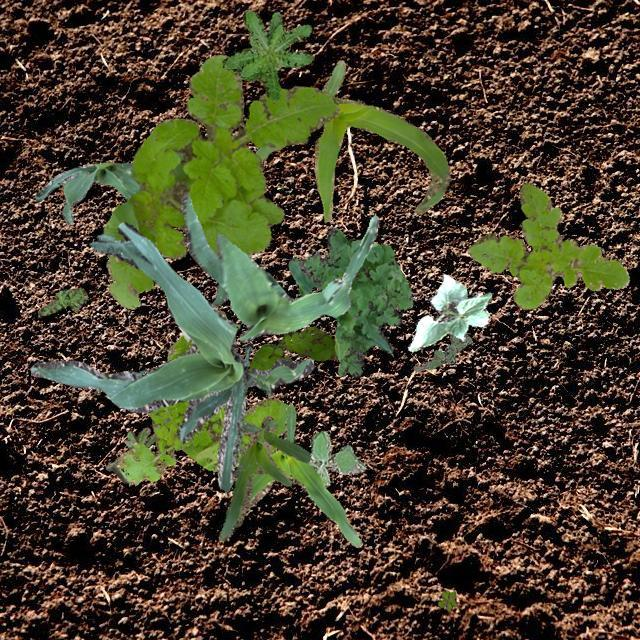crop: (30, 222, 312, 492), (255, 60, 450, 222), (180, 193, 378, 341), (246, 402, 362, 546), (218, 414, 310, 540), (34, 160, 140, 223), (406, 272, 491, 350), (210, 282, 228, 306)
weed: (102, 54, 338, 308), (110, 310, 286, 484), (468, 182, 628, 308), (287, 228, 413, 376), (222, 10, 312, 100), (248, 326, 336, 370), (306, 429, 366, 486), (412, 332, 470, 370), (104, 426, 154, 469), (36, 286, 86, 314), (436, 590, 456, 610)
